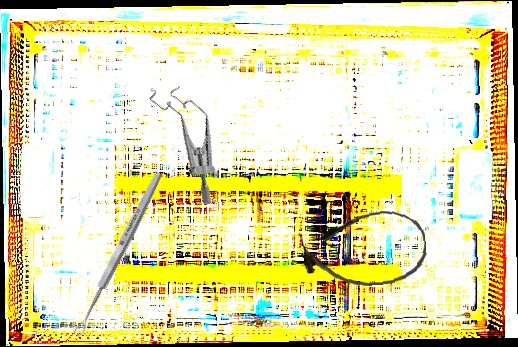Cannula: (300, 207, 429, 292)
Speculum: (116, 72, 256, 208)
Surgical Spoon: (71, 170, 165, 338)
